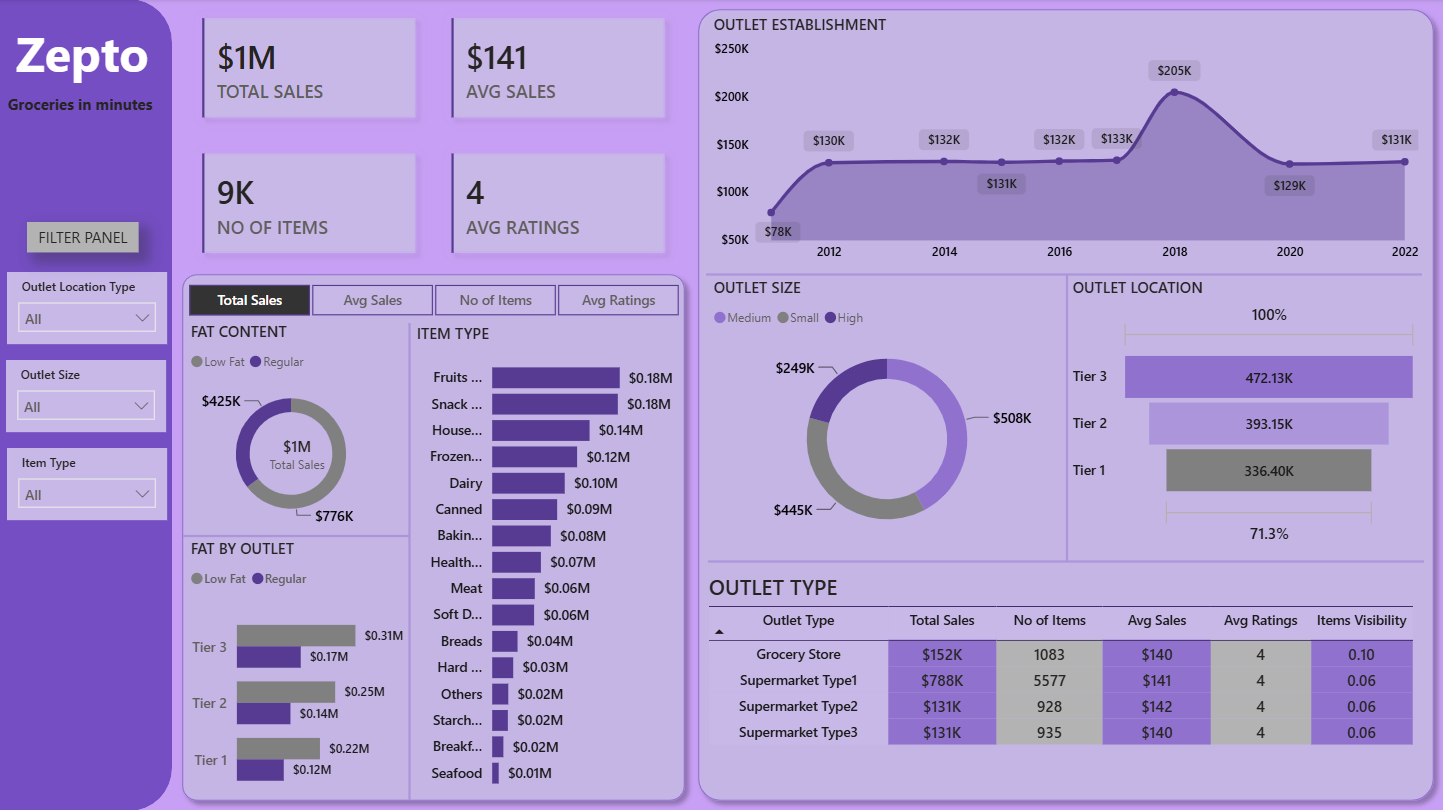

Layout of this report page (visuals, bound fields, positions):
{"tool":"powerbi","page":{"name":"Page 1","canvas":[1280,720],"ordinal":0},"visuals":[{"type":"shape","box":[0,0,152.5,720],"z":0},{"type":"textbox","box":[8.9,13.3,129,72],"z":1000},{"type":"textbox","box":[1.8,79.8,150.7,26.6],"z":2000},{"type":"cardVisual","fields":{"Data":["BlinkIT Grocery Data.Total Sales","BlinkIT Grocery Data.Avg Sales","BlinkIT Grocery Data.No of Items","BlinkIT Grocery Data.Avg Ratings"]},"box":[162.3,0,444.2,242.1],"z":3000},{"type":"shape","box":[152.5,235,463.7,485],"z":4000},{"type":"donutChart","title":"FAT CONTENT","fields":{"Y":["BlinkIT Grocery Data.Total Sales"],"Category":["BlinkIT Grocery Data.Item Fat Content"]},"box":[164,285.5,188,190.6],"z":5000},{"type":"slicer","fields":{"Values":["Metrics.Metrics"]},"box":[141.9,246.5,484.1,40.8],"z":6000},{"type":"cardVisual","fields":{"Data":["BlinkIT Grocery Data.Total Sales"]},"box":[203.9,368,119.7,71.8],"z":7000},{"type":"clusteredBarChart","title":"FAT BY OUTLET","fields":{"Y":["BlinkIT Grocery Data.Total Sales"],"Category":["BlinkIT Grocery Data.Outlet Location Type"],"Series":["BlinkIT Grocery Data.Item Fat Content"]},"box":[164,477.9,198.6,242.1],"z":8000},{"type":"shape","box":[162.3,468.2,201.3,16],"z":9000},{"type":"shape","box":[358.2,287.3,9.8,423],"z":10000},{"type":"barChart","title":"ITEM TYPE","fields":{"Y":["BlinkIT Grocery Data.Total Sales"],"Category":["BlinkIT Grocery Data.Item Type"]},"box":[364.4,287.3,236.7,423],"z":11000},{"type":"shape","box":[610,0,670.3,720],"z":12000},{"type":"lineChart","title":"OUTLET ESTABLISHMENT","fields":{"Y":["BlinkIT Grocery Data.Total Sales"],"Category":["BlinkIT Grocery Data.Outlet Establishment Year"]},"box":[627.8,13.3,634.9,228.8],"z":13000},{"type":"shape","box":[626,235,634.9,18.6],"z":14000},{"type":"donutChart","title":"OUTLET SIZE","fields":{"Y":["BlinkIT Grocery Data.Total Sales"],"Category":["BlinkIT Grocery Data.Outlet Size"]},"box":[627.8,246.5,317.4,243],"z":15000},{"type":"shape","box":[939.9,244.7,12.4,254.5],"z":16000},{"type":"funnel","title":"OUTLET LOCATION","fields":{"Y":["Sum(BlinkIT Grocery Data.Sales)"],"Category":["BlinkIT Grocery Data.Outlet Location Type"]},"box":[946.1,246.5,316.6,243],"z":17000},{"type":"shape","box":[627.8,489.5,634.9,18.6],"z":18000},{"type":"pivotTable","title":"OUTLET TYPE","fields":{"Rows":["BlinkIT Grocery Data.Outlet Type"],"Values":["BlinkIT Grocery Data.Total Sales","BlinkIT Grocery Data.No of Items","BlinkIT Grocery Data.Avg Sales","BlinkIT Grocery Data.Avg Ratings","Avg(BlinkIT Grocery Data.Item Visibility)"]},"box":[628.7,508.1,634.9,164.9],"z":19000},{"type":"slicer","fields":{"Values":["BlinkIT Grocery Data.Outlet Location Type"]},"box":[6.2,242.1,141.9,63.8],"z":20000},{"type":"slicer","fields":{"Values":["BlinkIT Grocery Data.Outlet Size"]},"box":[5.3,320.1,141.9,63.8],"z":21000},{"type":"slicer","fields":{"Values":["BlinkIT Grocery Data.Item Type"]},"box":[6.2,398.1,141.9,63.8],"z":22000},{"type":"textbox","box":[23.9,197.7,99.3,26.6],"z":23000}]}

Visuals, with their boxes in screenshot pixels (x1, y1, x2, y2), scaled from the page's 1280x720 canvas onto the 1443x810 screenshot:
shape: bbox=(0, 0, 172, 809)
textbox: bbox=(10, 15, 155, 96)
textbox: bbox=(2, 90, 172, 120)
cardVisual - BlinkIT Grocery Data.Total Sales x BlinkIT Grocery Data.Avg Sales: bbox=(183, 0, 684, 272)
shape: bbox=(172, 264, 695, 809)
"FAT CONTENT" donutChart: bbox=(185, 321, 397, 536)
slicer - Metrics.Metrics: bbox=(160, 277, 706, 323)
cardVisual - BlinkIT Grocery Data.Total Sales: bbox=(230, 414, 365, 495)
"FAT BY OUTLET" clusteredBarChart: bbox=(185, 538, 409, 809)
shape: bbox=(183, 527, 410, 545)
shape: bbox=(404, 323, 415, 799)
"ITEM TYPE" barChart: bbox=(411, 323, 678, 799)
shape: bbox=(688, 0, 1442, 809)
"OUTLET ESTABLISHMENT" lineChart: bbox=(708, 15, 1423, 272)
shape: bbox=(706, 264, 1421, 285)
"OUTLET SIZE" donutChart: bbox=(708, 277, 1066, 551)
shape: bbox=(1060, 275, 1074, 562)
"OUTLET LOCATION" funnel: bbox=(1067, 277, 1423, 551)
shape: bbox=(708, 551, 1423, 572)
"OUTLET TYPE" pivotTable: bbox=(709, 572, 1425, 757)
slicer - BlinkIT Grocery Data.Outlet Location Type: bbox=(7, 272, 167, 344)
slicer - BlinkIT Grocery Data.Outlet Size: bbox=(6, 360, 166, 432)
slicer - BlinkIT Grocery Data.Item Type: bbox=(7, 448, 167, 520)
textbox: bbox=(27, 222, 139, 252)
